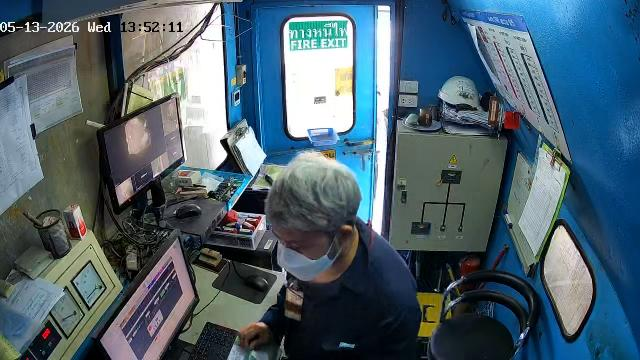Head: (266, 153, 361, 259)
People: (240, 153, 420, 359)
